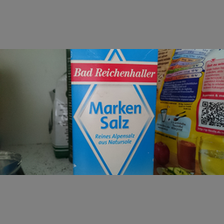spices: (70, 49, 158, 175)
